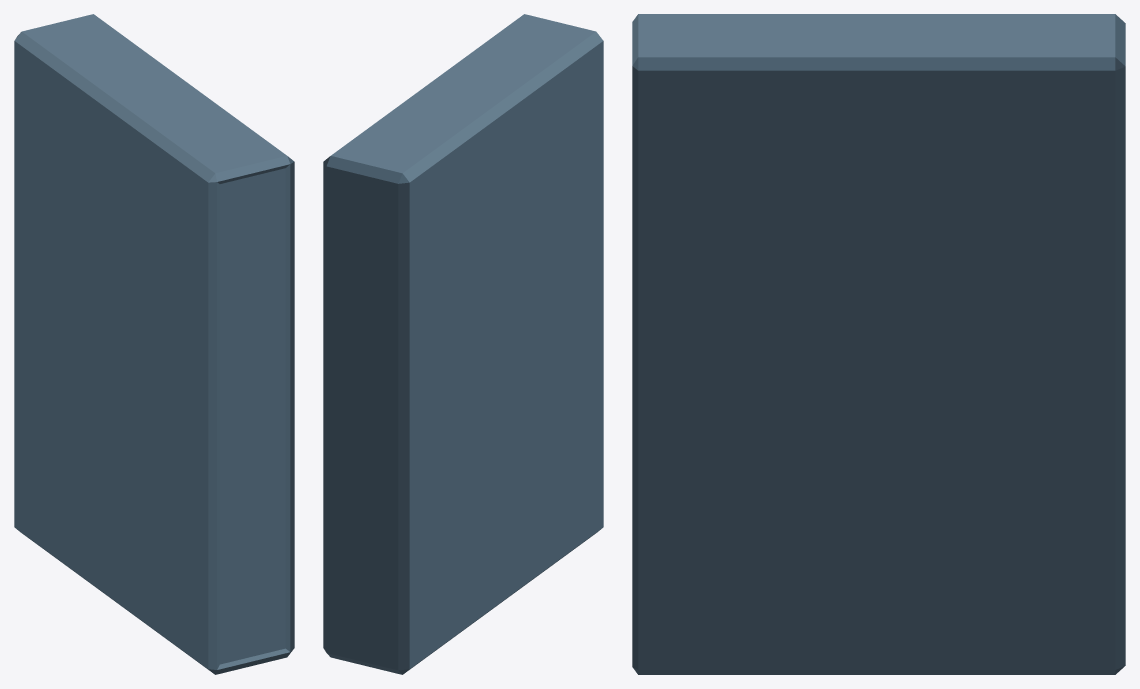
Rendered from Bridge_Anchor.gltf.
3 views of the same model, side by side, from view 1: azimuth 30°, elevation 25°; view 2: azimuth 150°, elevation 25°; view 3: azimuth 270°, elevation 25° (orthographic). The views are drawn at different scales.
Parts seen in each view (by area): view 1: Bridge_Anchor_baked; view 2: Bridge_Anchor_baked; view 3: Bridge_Anchor_baked.
Part boxes in pixels (left/top/right/bottom): Bridge_Anchor_baked: left=14, top=14, right=294, bottom=674; Bridge_Anchor_baked: left=323, top=14, right=603, bottom=674; Bridge_Anchor_baked: left=632, top=14, right=1125, bottom=674.
Size of the model in its own units: 0.18 by 1 by 0.7236.
